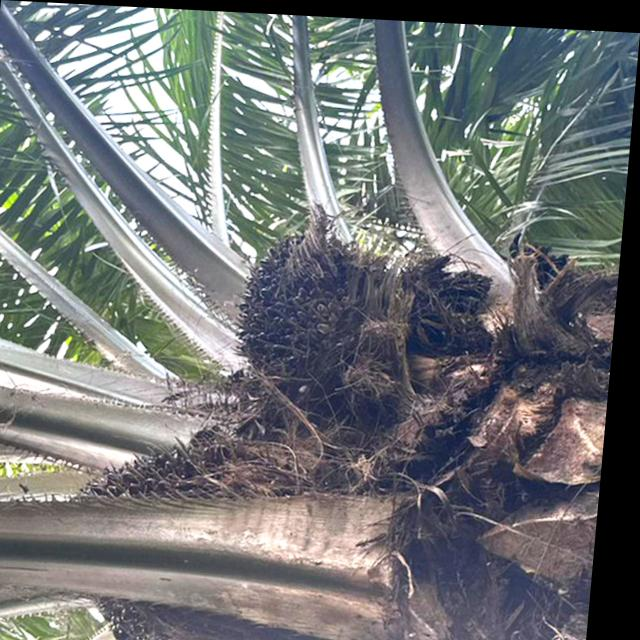unripe: (224, 207, 383, 409)
